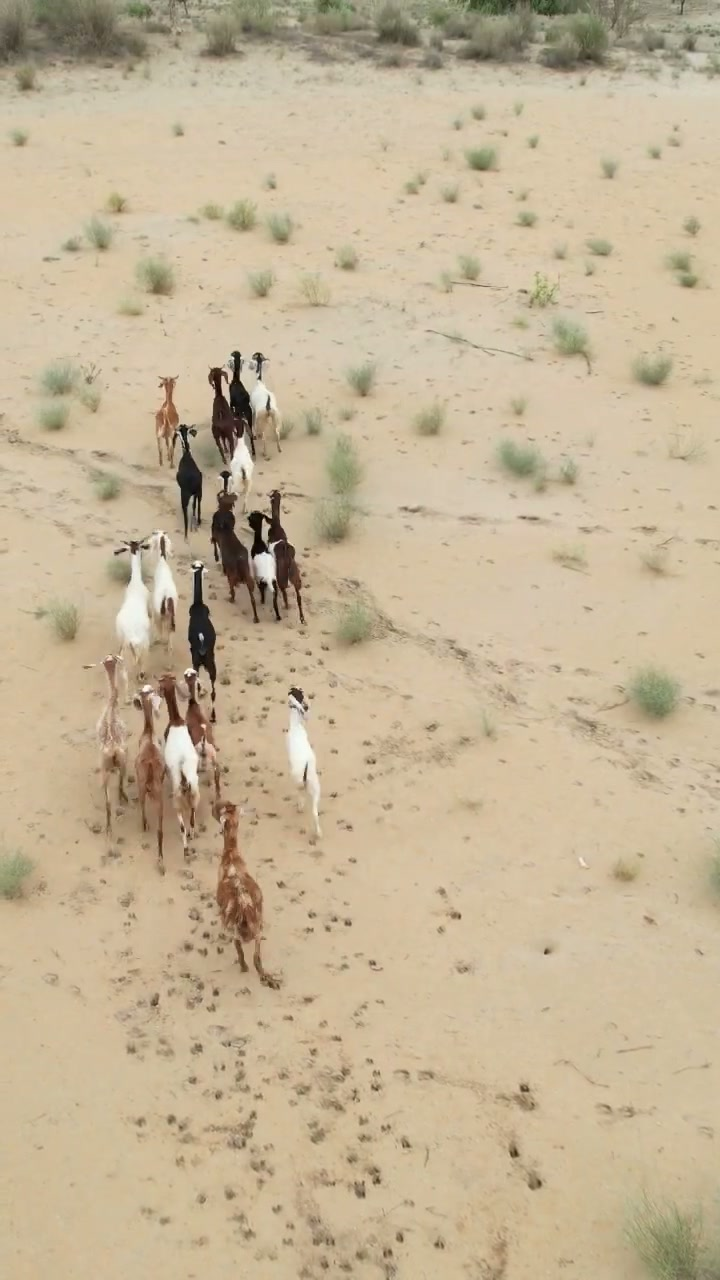animal_foot_print: (115, 704, 433, 1268)
